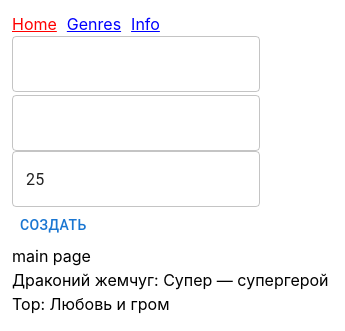
Test: header › rendering a genres page by genres link click
Expected: the text "main page" is shown, [12, 246, 91, 266]
Click the link "Genres".
click(94, 24)  # box [67, 14, 121, 34]
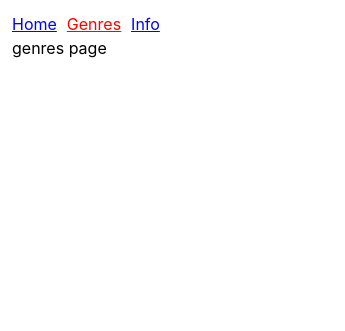
Expected: the text "genres page" is shown, [12, 38, 107, 58]
